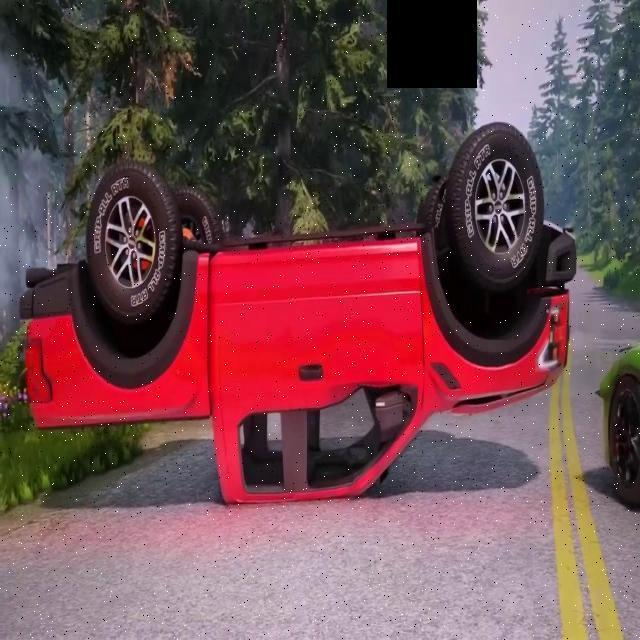person: (20, 116, 602, 534)
